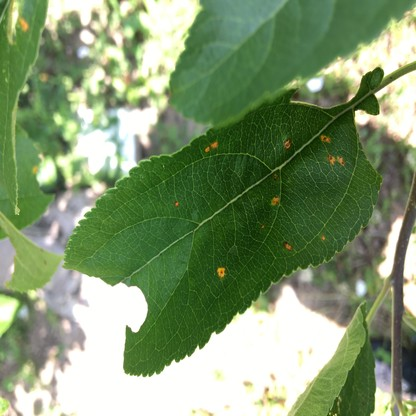rust: (327, 154, 344, 164), (205, 140, 218, 150), (19, 18, 28, 31), (320, 133, 331, 142), (272, 194, 280, 206), (216, 266, 225, 276), (283, 240, 293, 249), (283, 138, 290, 149), (31, 165, 36, 175), (320, 234, 325, 240), (273, 172, 277, 179), (174, 201, 179, 206), (260, 223, 264, 227)
